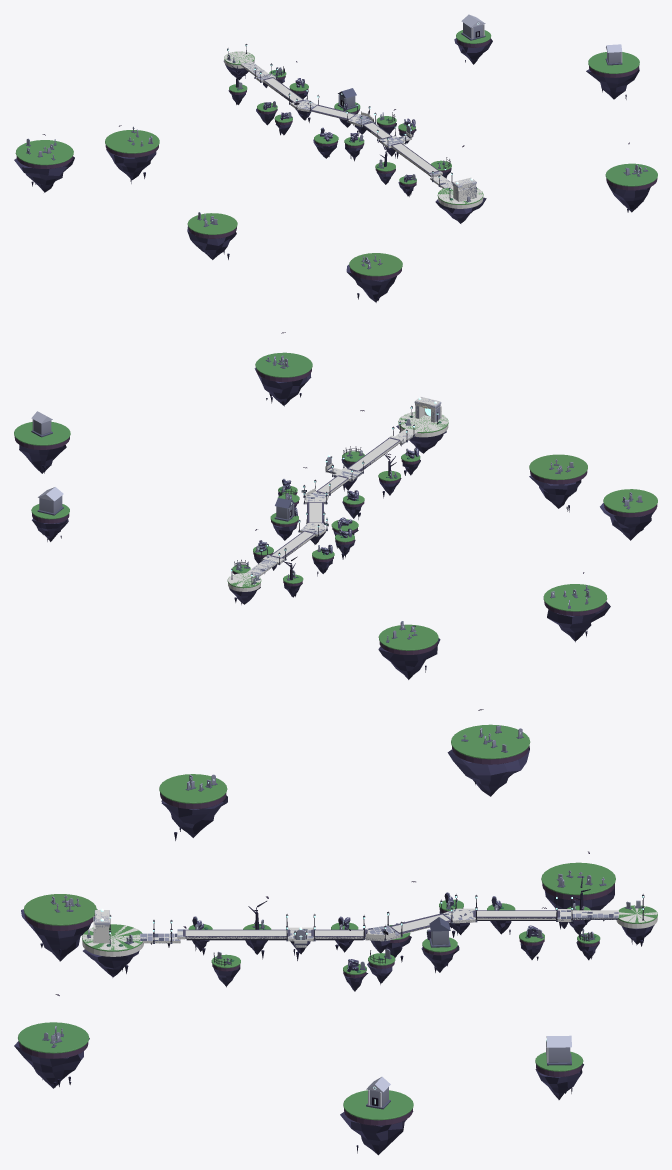
3 views of the same model, one above another, from view 1: azimuth 30°, elevation 25°; view 2: azimuth 150°, elevation 25°; view 3: azimuth 270°, elevation 25° (orthographic). The views are drawn at different scales.
Parts seen in each view (by area): view 1: V_moss, V_rock, V_dirt, C_4, V_stone, V_stone_dark, V_iron, V_metal, C_5, C_3; view 2: V_moss, V_rock, C_4, V_dirt, V_stone, V_stone_dark, V_iron, V_metal; view 3: V_moss, V_rock, V_dirt, C_4, V_stone, V_stone_dark, V_metal, V_iron, C_3, C_0.
Boxes of the visible parts, x1,y1,x2,y2 form: V_moss: (15,30,657,276); V_rock: (14,38,651,302); V_dirt: (16,38,657,280); C_4: (224,51,483,208); V_stone: (26,22,646,268); V_stone_dark: (26,32,647,269); V_iron: (227,44,452,198); V_metal: (263,77,439,173); C_5: (452,177,476,201); C_3: (391,143,437,173); V_moss: (14,352,657,650); V_rock: (19,368,655,679); C_4: (228,412,448,591); V_dirt: (14,368,657,654); V_stone: (33,355,641,641); V_stone_dark: (31,359,642,642); V_iron: (231,406,438,584); V_metal: (270,437,400,558); V_moss: (18,724,657,1120); V_rock: (14,746,654,1155); V_dirt: (18,746,614,1125); C_4: (82,905,657,956); V_stone: (44,725,640,1106); V_stone_dark: (42,731,641,1109); V_metal: (183,910,559,938); V_iron: (109,894,644,966); C_3: (185,930,287,938); C_0: (475,911,556,919).
Bounding box in the file's own units: 177 × 30.22 × 125.
